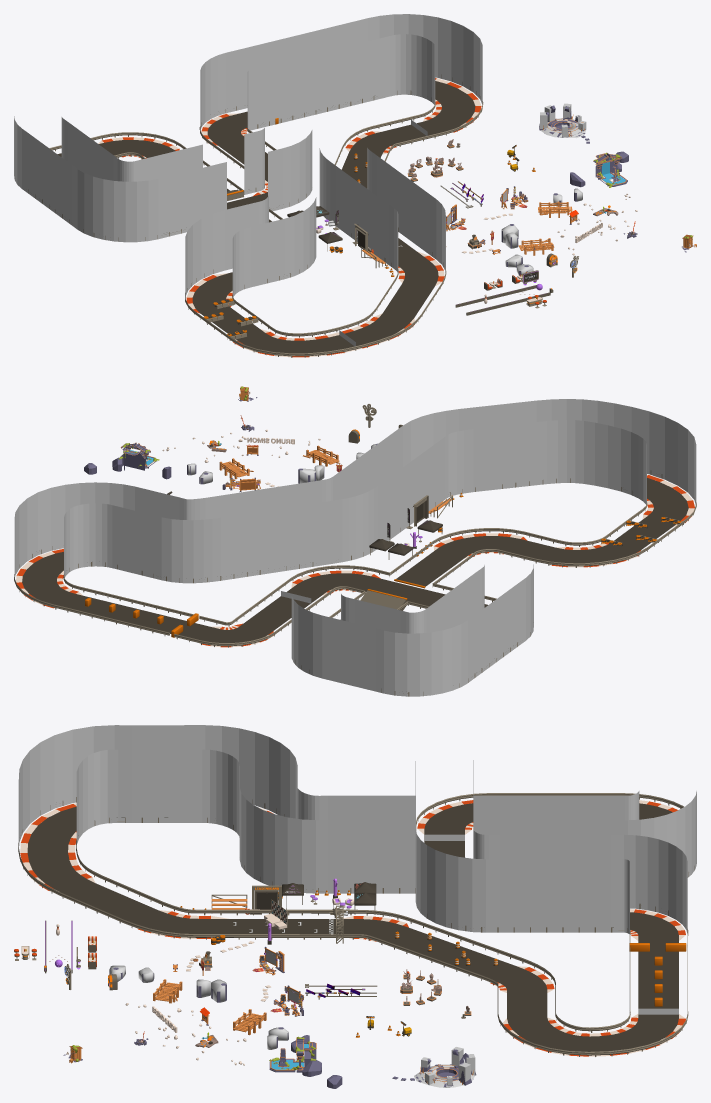
The model's file is areas.glb.
3 views of the same model, one above another, from view 1: azimuth 30°, elevation 25°; view 2: azimuth 150°, elevation 25°; view 3: azimuth 270°, elevation 25° (orthographic). The views are drawn at different scales.
Visible parts, largest first — view 1: trimesh, refCircuitRoadPhysicalFixed.001, refCircuitRailsPhysicalFixed, curveBumpers, refBowlingBumpersPhysicalKinematicPositionBased; view 2: trimesh, refCircuitRoadPhysicalFixed.001, refCircuitRailsPhysicalFixed, curveBumpers, jump; view 3: trimesh, refCircuitRoadPhysicalFixed.001, refCircuitRailsPhysicalFixed, curveBumpers.
Boxes of the visible parts, <box> form: trimesh: <box>14,14,482,297</box>; refCircuitRoadPhysicalFixed.001: <box>57,81,475,353</box>; refCircuitRailsPhysicalFixed: <box>28,74,483,357</box>; curveBumpers: <box>98,78,481,357</box>; refBowlingBumpersPhysicalKinematicPositionBased: <box>455,285,550,315</box>; trimesh: <box>14,399,696,696</box>; refCircuitRoadPhysicalFixed.001: <box>22,478,688,642</box>; refCircuitRailsPhysicalFixed: <box>14,470,696,696</box>; curveBumpers: <box>16,474,694,647</box>; jump: <box>360,590,407,610</box>; trimesh: <box>18,725,696,1012</box>; refCircuitRoadPhysicalFixed.001: <box>27,803,678,1051</box>; refCircuitRailsPhysicalFixed: <box>18,793,694,1056</box>; curveBumpers: <box>20,800,685,1056</box>.
Size of the model in its own units: 169 by 22.55 by 169.
46 materials, 17 textured.
